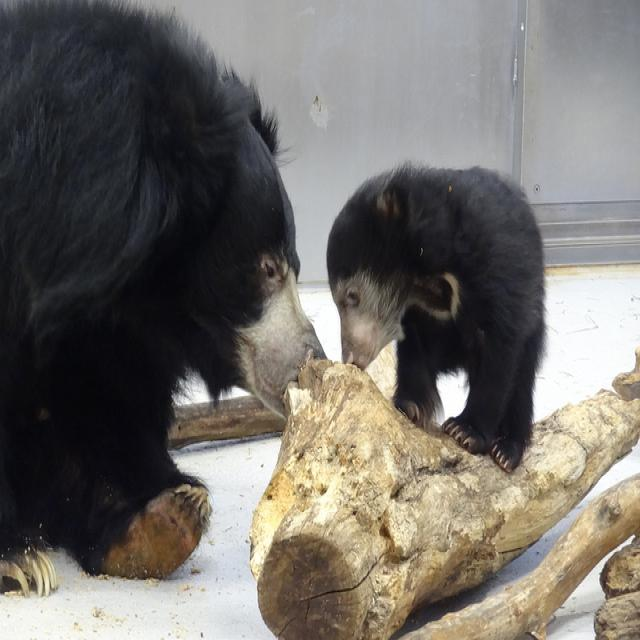Bear: (0, 9, 330, 580), (327, 136, 576, 474)
